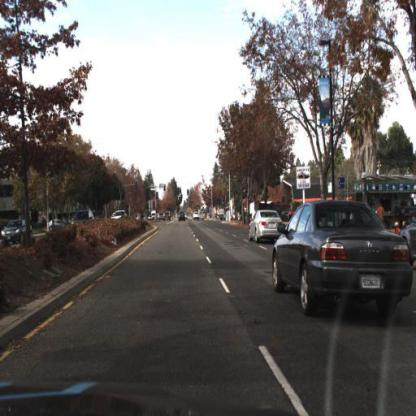car: (272, 198, 414, 323), (249, 206, 285, 246), (1, 219, 34, 244), (70, 208, 100, 231), (55, 220, 78, 242), (192, 209, 202, 225), (163, 209, 173, 224), (178, 212, 187, 225)
pedestrian: (376, 203, 386, 224)
